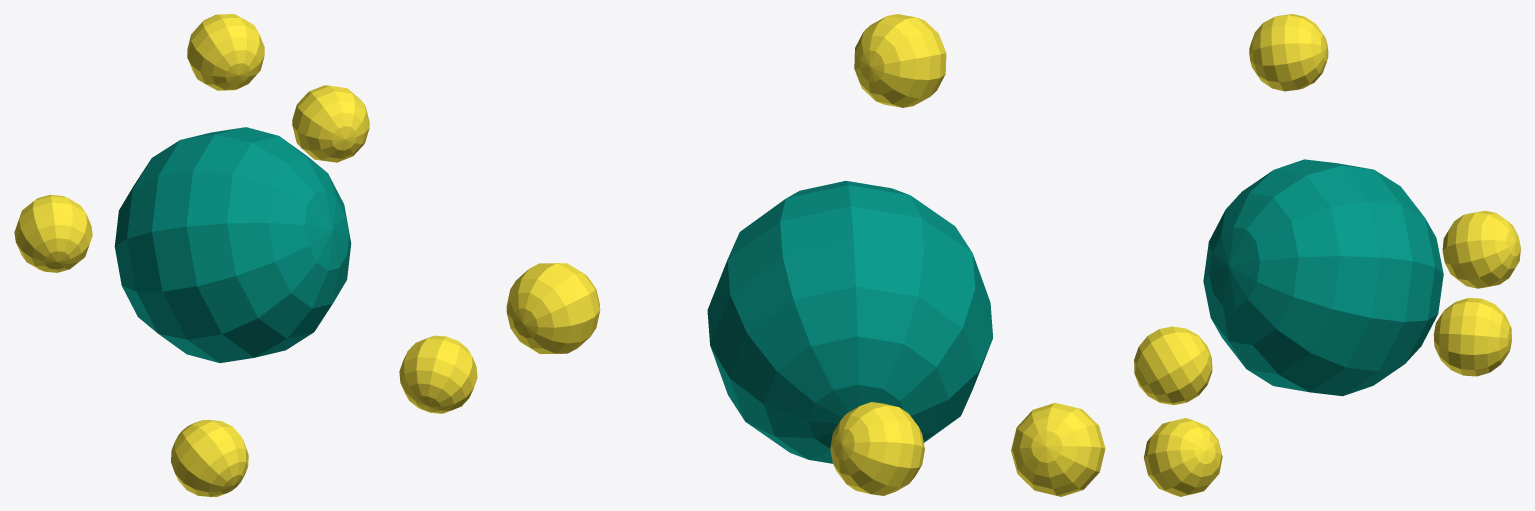
The model's file is hydrogen.obj.
The picture shows the model from 3 angles, left to right: view 1: azimuth 30°, elevation 25°; view 2: azimuth 150°, elevation 25°; view 3: azimuth 270°, elevation 25°; orthographic projection. The views are drawn at different scales.
Parts seen in each view (by area): view 1: mesh1358317089; view 2: mesh1358317089; view 3: mesh1358317089.
Part boxes in pixels (box(x1,y1,x2,y2)): mesh1358317089: box(14, 14, 477, 496); mesh1358317089: box(506, 14, 1105, 496); mesh1358317089: box(1134, 14, 1520, 496).
Size of the model in its own units: 0.1998 by 0.234 by 0.1951.
